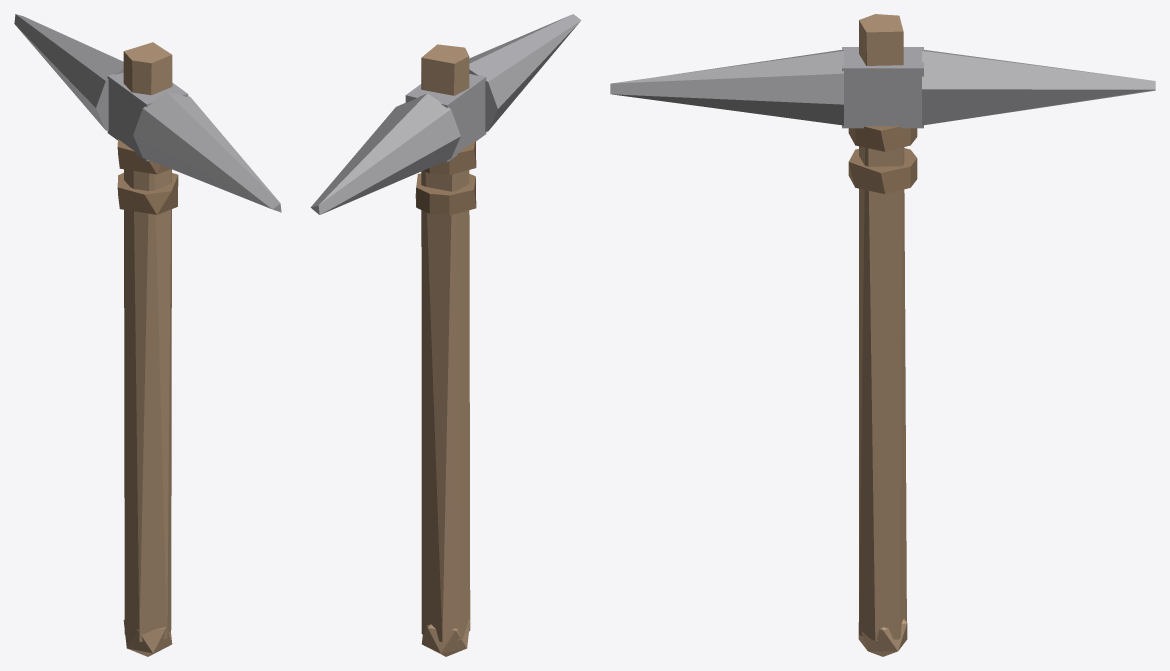
Rendered from 13-Herramientas_pico_piedra.glb.
The picture shows the model from 3 angles, left to right: view 1: azimuth 30°, elevation 25°; view 2: azimuth 150°, elevation 25°; view 3: azimuth 270°, elevation 25°; orthographic projection. The views are drawn at different scales.
Visible parts, largest first — view 1: SM_PicoPiedra_M_Madera_Mango, SM_PicoPiedra_M_Piedra_Pico, SM_PicoPiedra_M_Cuero_Atadura; view 2: SM_PicoPiedra_M_Madera_Mango, SM_PicoPiedra_M_Piedra_Pico, SM_PicoPiedra_M_Cuero_Atadura; view 3: SM_PicoPiedra_M_Piedra_Pico, SM_PicoPiedra_M_Madera_Mango, SM_PicoPiedra_M_Cuero_Atadura.
Boxes of the visible parts, x1,y1,x2,y2 form: SM_PicoPiedra_M_Madera_Mango: (123,42,172,656); SM_PicoPiedra_M_Piedra_Pico: (14,14,281,212); SM_PicoPiedra_M_Cuero_Atadura: (117,139,178,214); SM_PicoPiedra_M_Madera_Mango: (421,44,470,656); SM_PicoPiedra_M_Piedra_Pico: (310,14,581,214); SM_PicoPiedra_M_Cuero_Atadura: (415,141,476,215); SM_PicoPiedra_M_Piedra_Pico: (610,47,1155,128); SM_PicoPiedra_M_Madera_Mango: (858,14,907,656); SM_PicoPiedra_M_Cuero_Atadura: (848,126,917,194).
Bounding box in the file's own units: 0.104 × 0.8968 × 0.7002.
